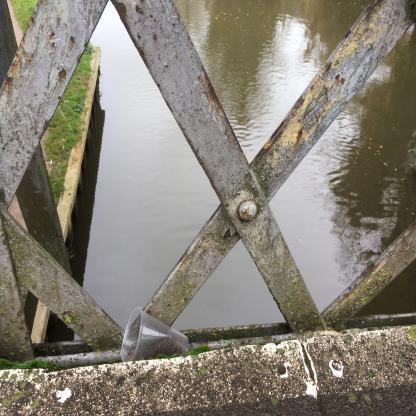plastik: (122, 307, 192, 363)
